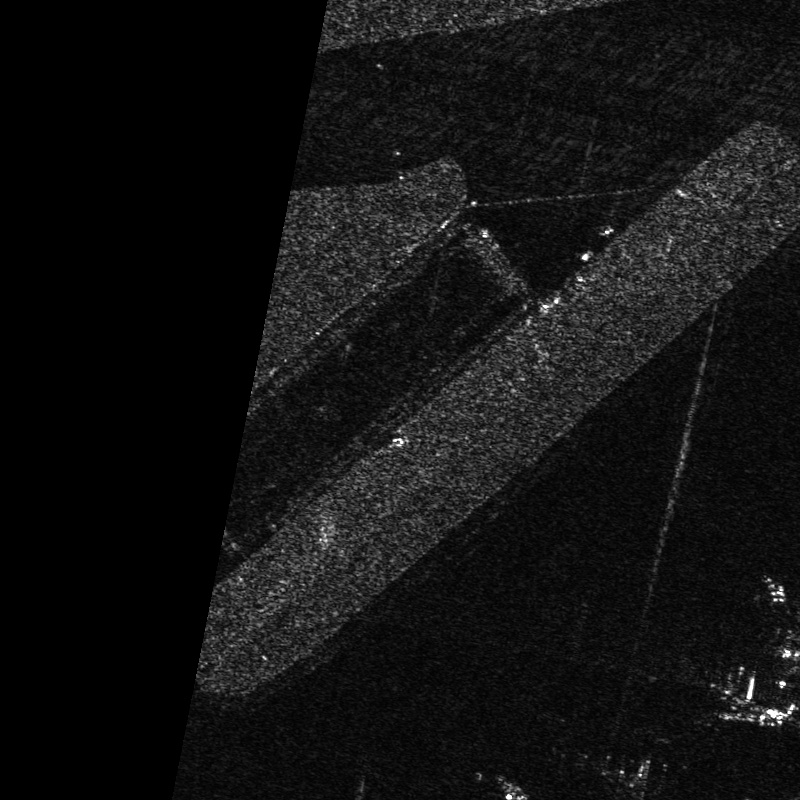Boeing737: (708, 662, 761, 731)
